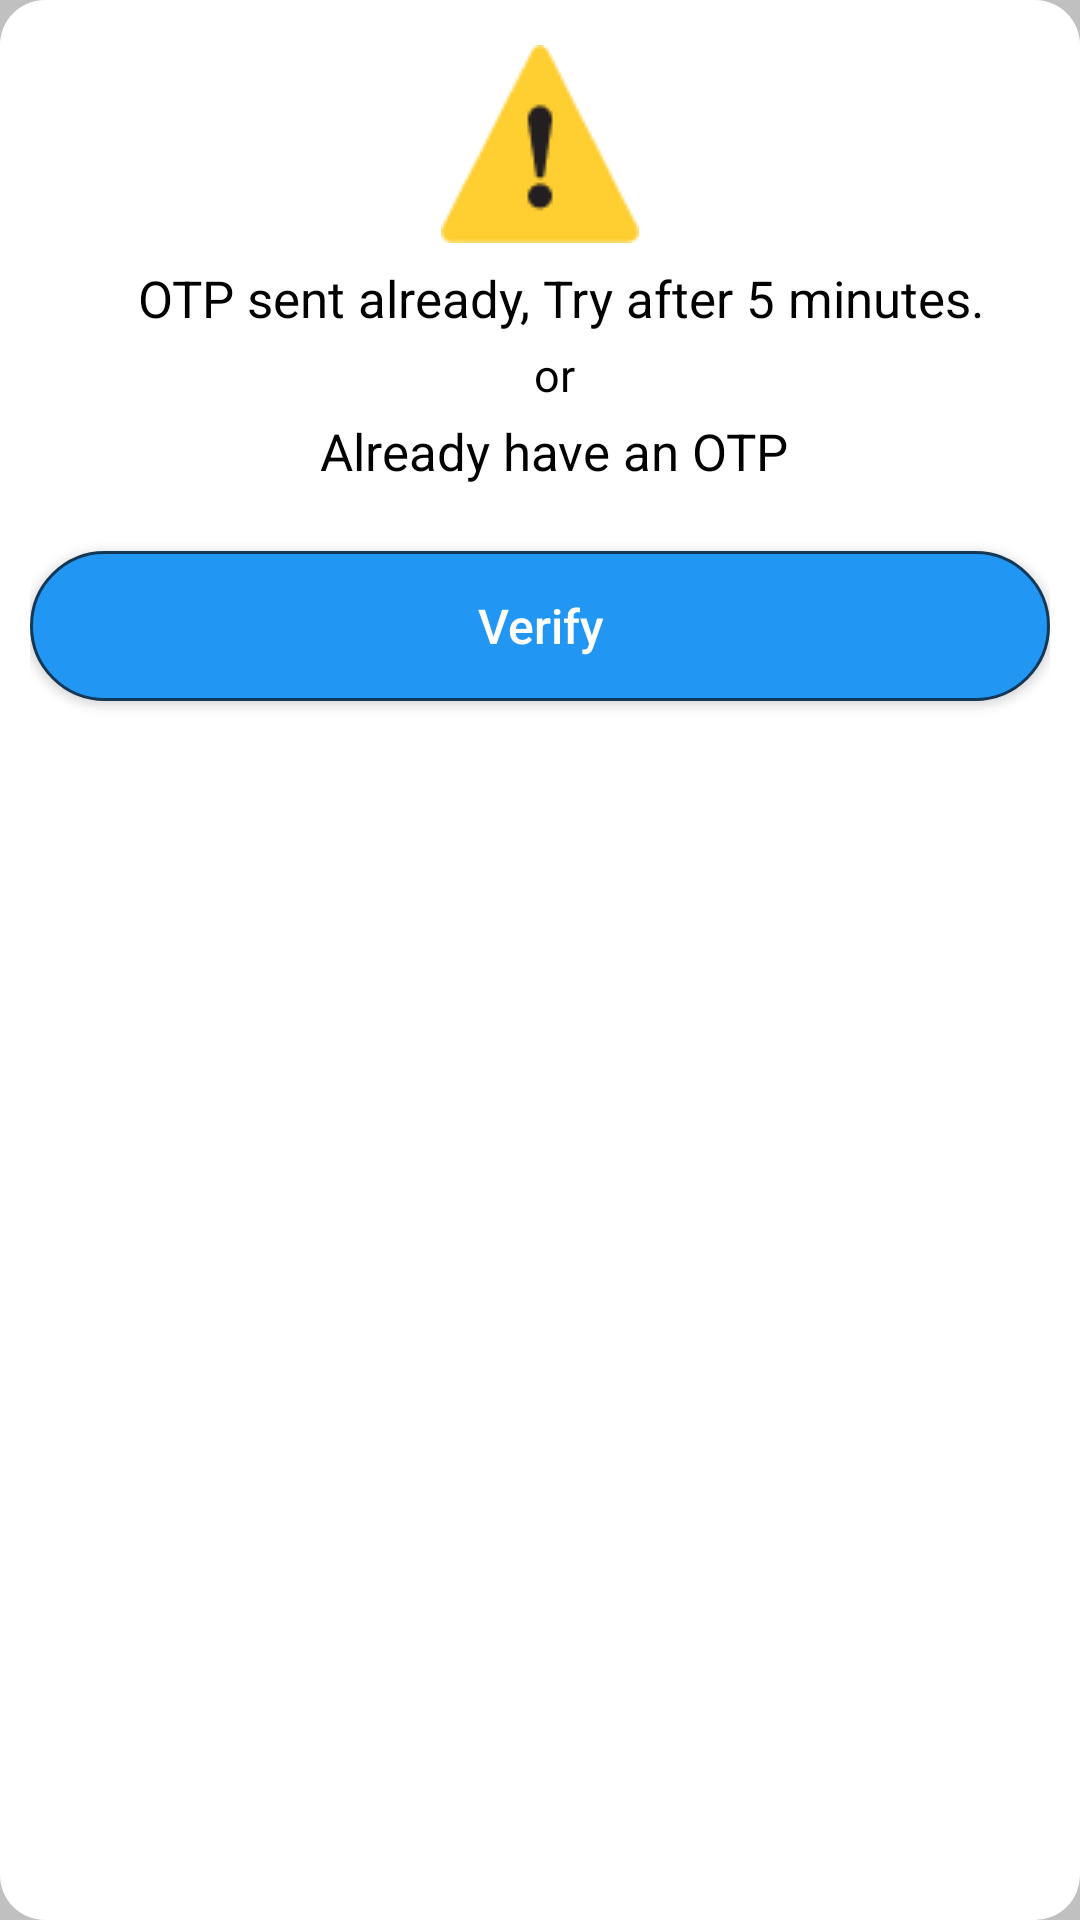

Icons on this 1080*1920 Android screen, each with the point to tap as (x=x, y=y):
error sign: (x=540, y=144)
